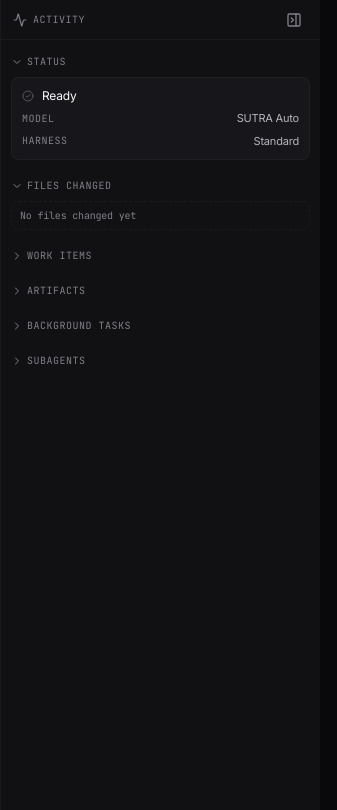
Scenario: ActivityPanel › renders every section with its empty state while idle
The width and height of the screenshot is (337, 810).
Expected: the text "Ready" is shown, [42,88,77,104]
Expected: the text "No files changed yet" is shown, [11,201,310,230]
# Secondary sections are collapsed by default — open each to verify its empty state is reachable
Click the button "Work Items": (60, 256) [11,246,310,265]
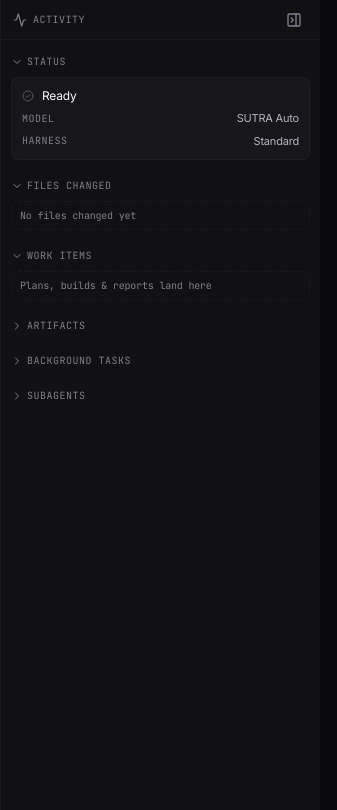
Expected: the text "Plans, builds & reports land here" is shown, [11,271,310,300]
Click the button "Artifacts": (56, 326) [11,316,310,335]
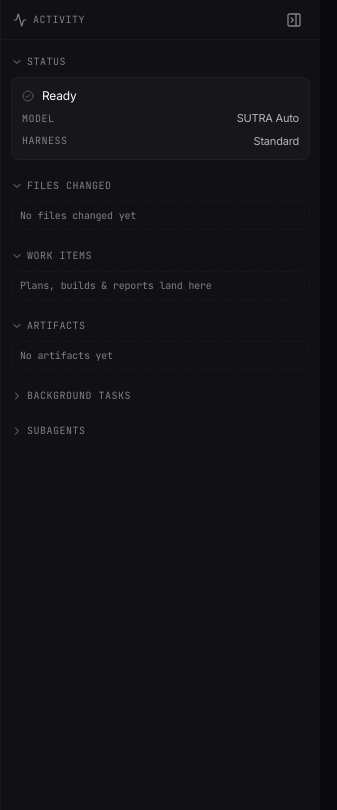
Expected: the text "No artifacts yet" is shown, [11,341,310,370]
Click the button "Background Tasks": (79, 396) [11,386,310,405]
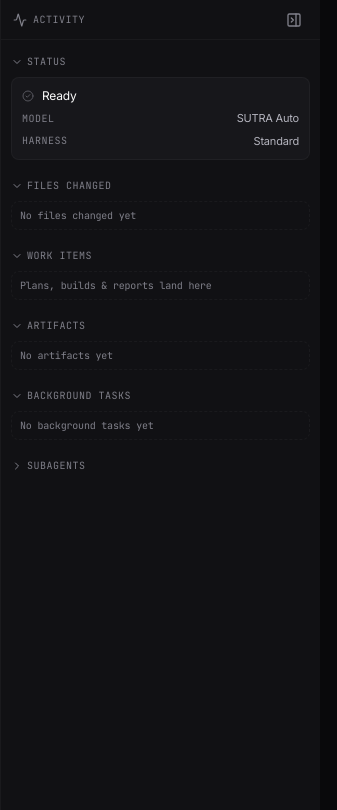
Expected: the text "No background tasks yet" is shown, [11,411,310,440]
Click the button "Subagents": (56, 466) [11,456,310,475]
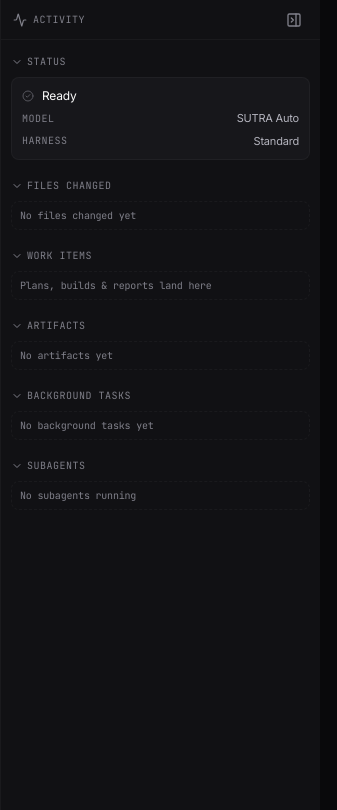
Expected: the text "No subagents running" is shown, [11,481,310,510]
